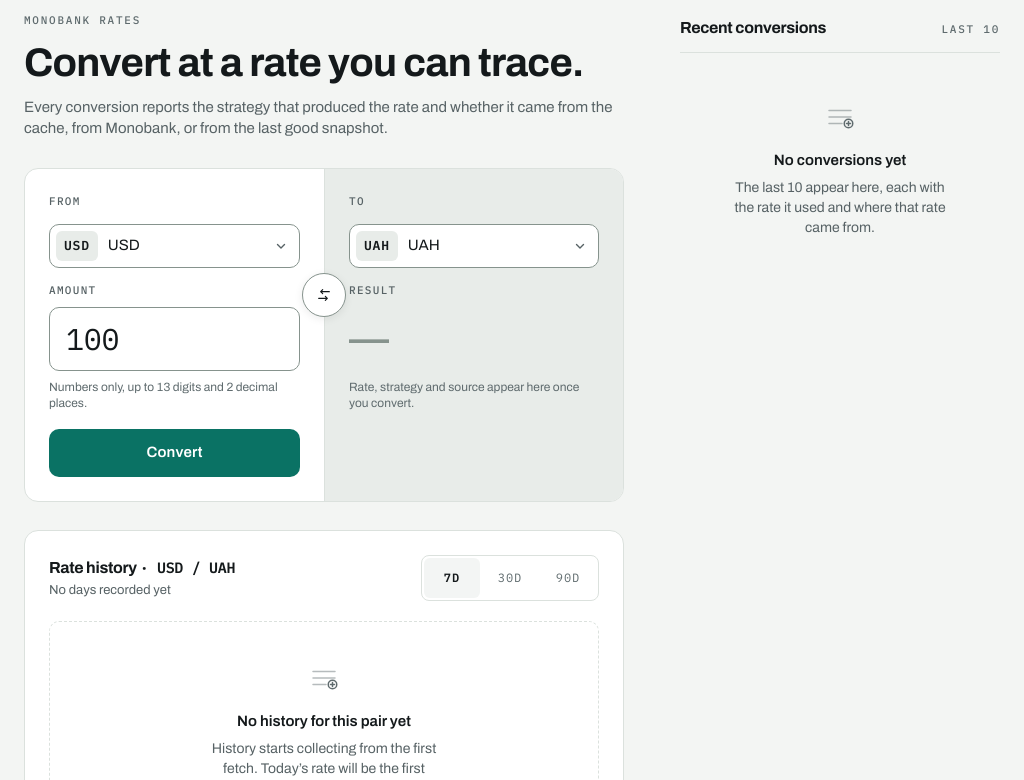
Test case: converting while the API is unreachable › refetches the history when the API did answer
What coordinates should you click on to do the following:
click the button "Convert"
I would click on:
 (174, 453)
Its box is top-left (49, 429), bottom-right (300, 477).
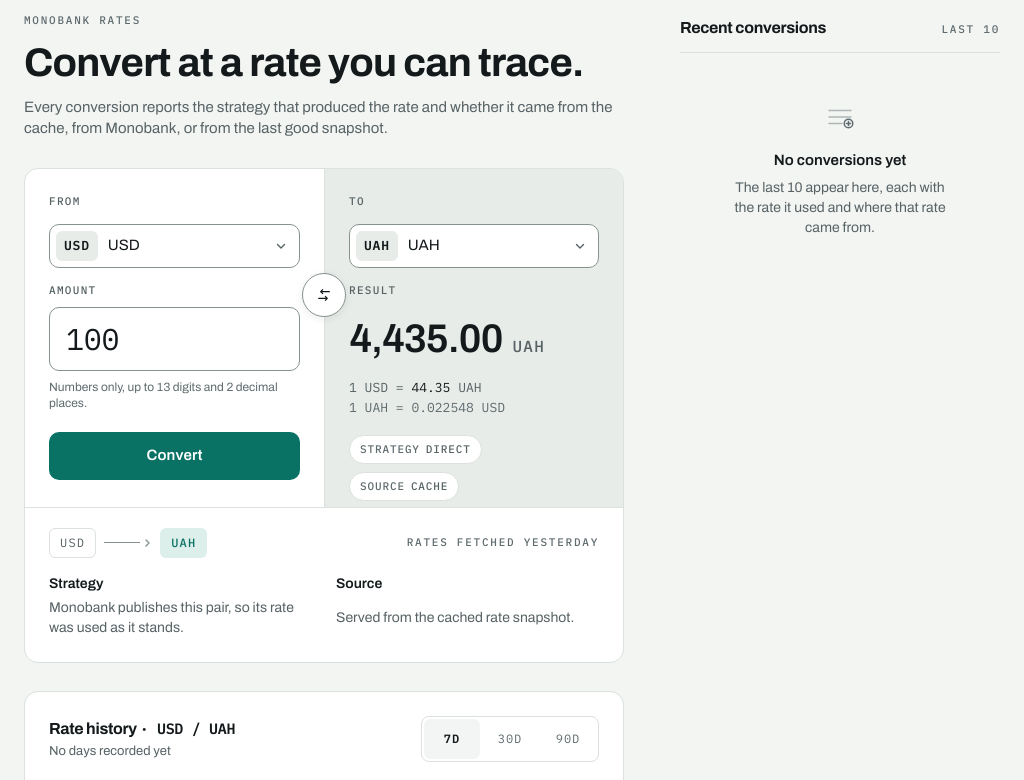
expect the text "cache" is shown: met, box top-left (411, 479), bottom-right (448, 493)
expect the text "Rates fetched yesterday" is shown: met, box top-left (407, 536), bottom-right (599, 550)
